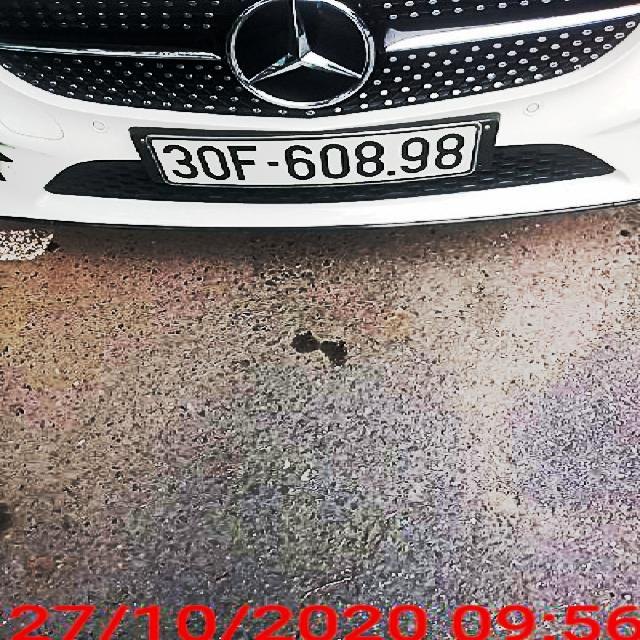license_plate: (145, 126, 483, 189)
